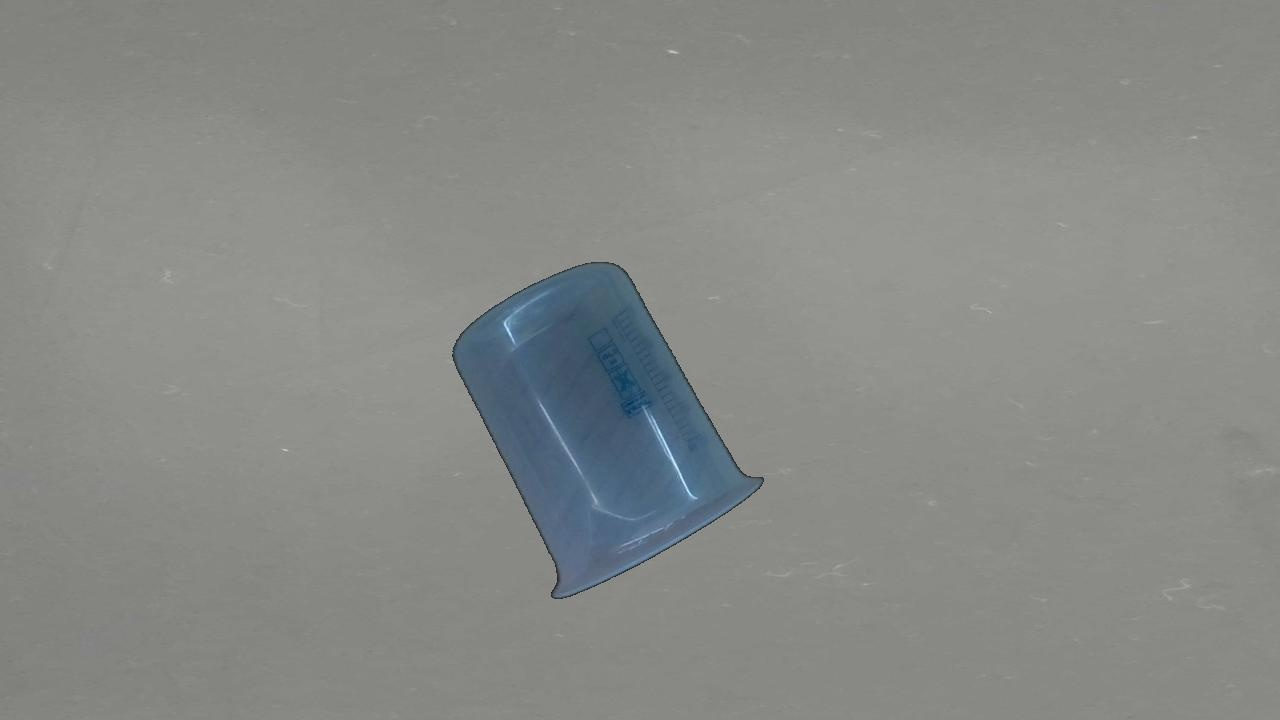cup: (450, 259, 765, 604)
